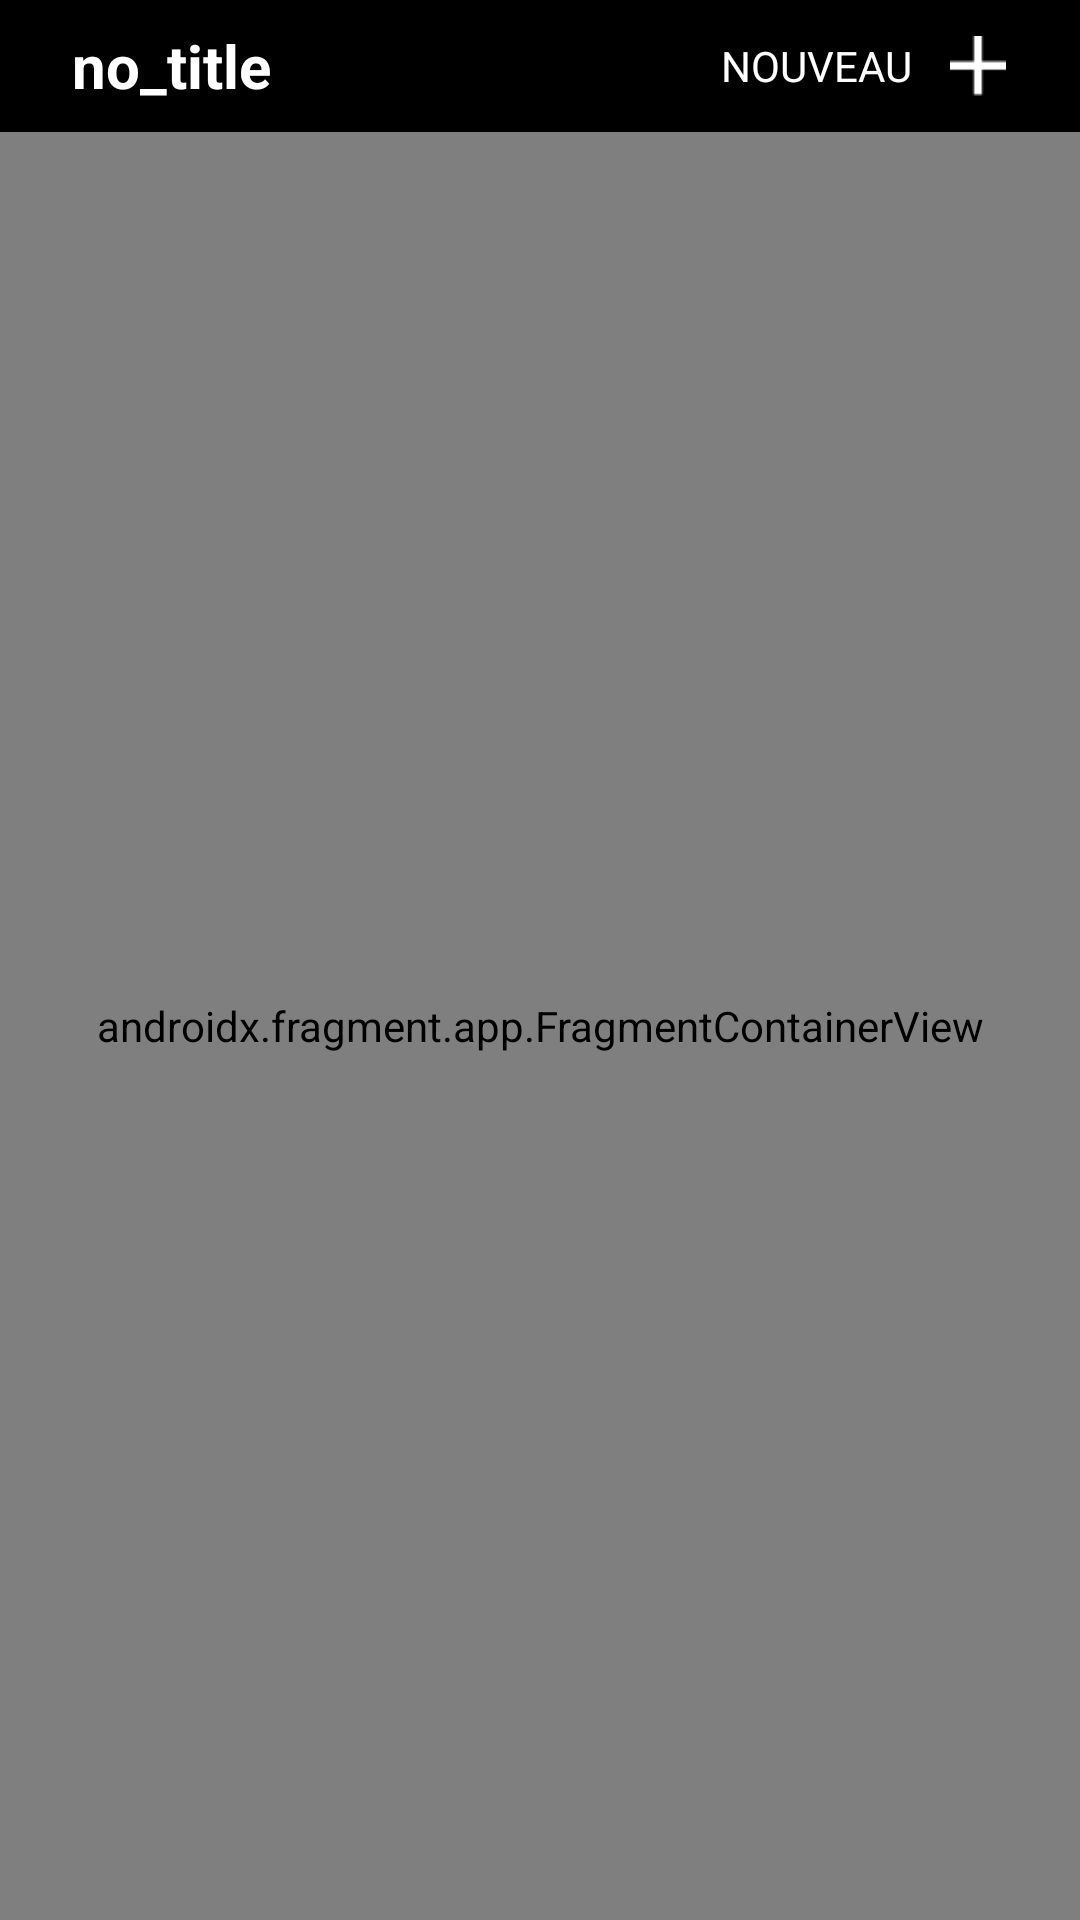

Screen size 1080×1920. Icon name, then its center in pixels as (x,y):
Icone plus: (978,66)
